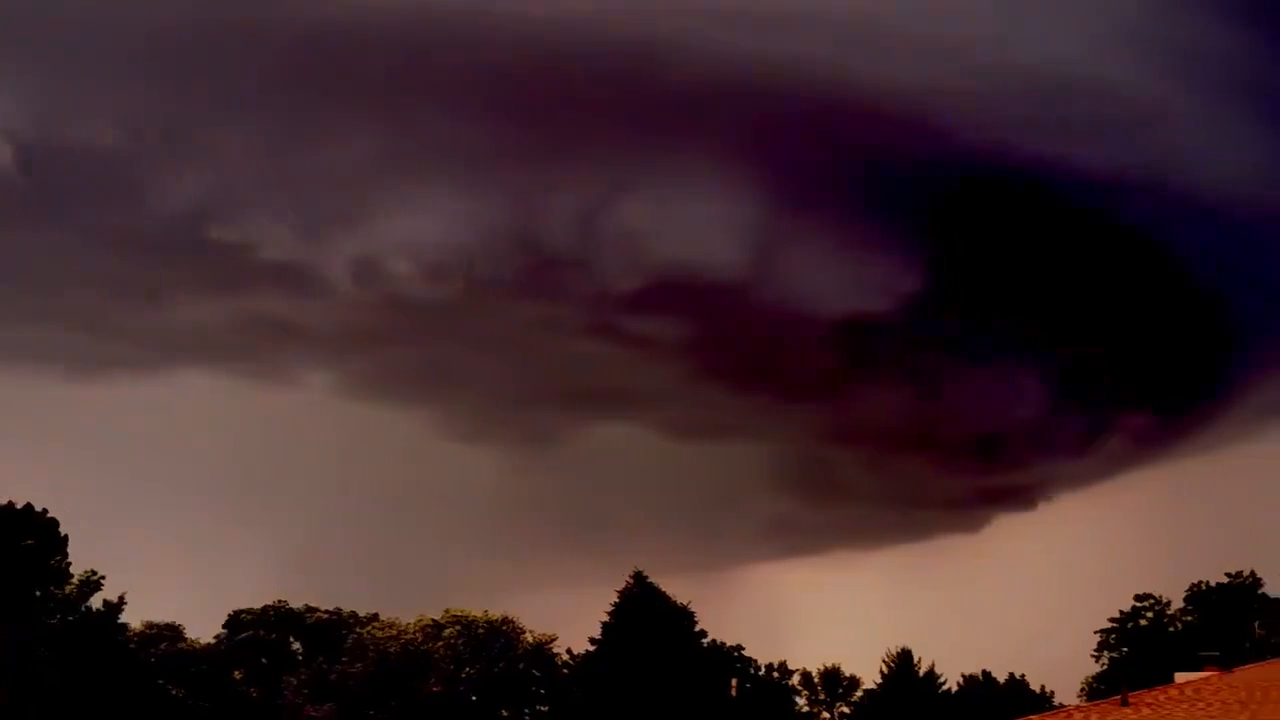RFD: (0, 380, 782, 665)
mesocyclone: (0, 0, 1279, 562)
striations: (488, 34, 1275, 458)
wall cloud: (0, 169, 1120, 515)
